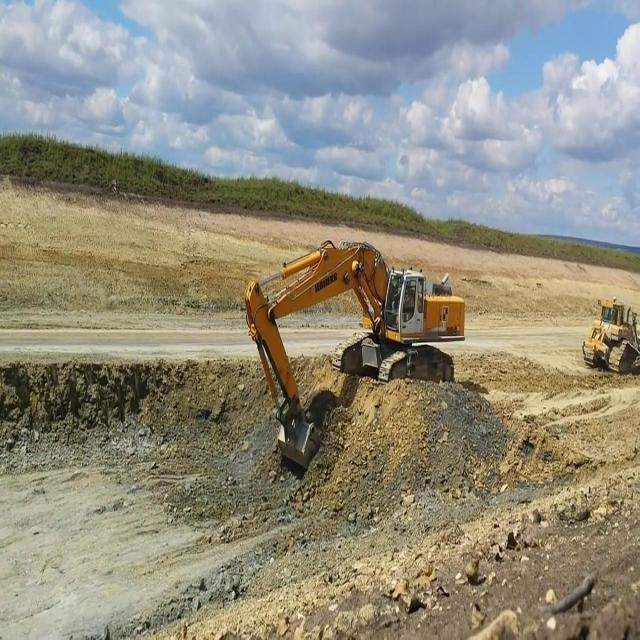Excavator: (243, 238, 467, 479)
Loader: (580, 295, 640, 376)
